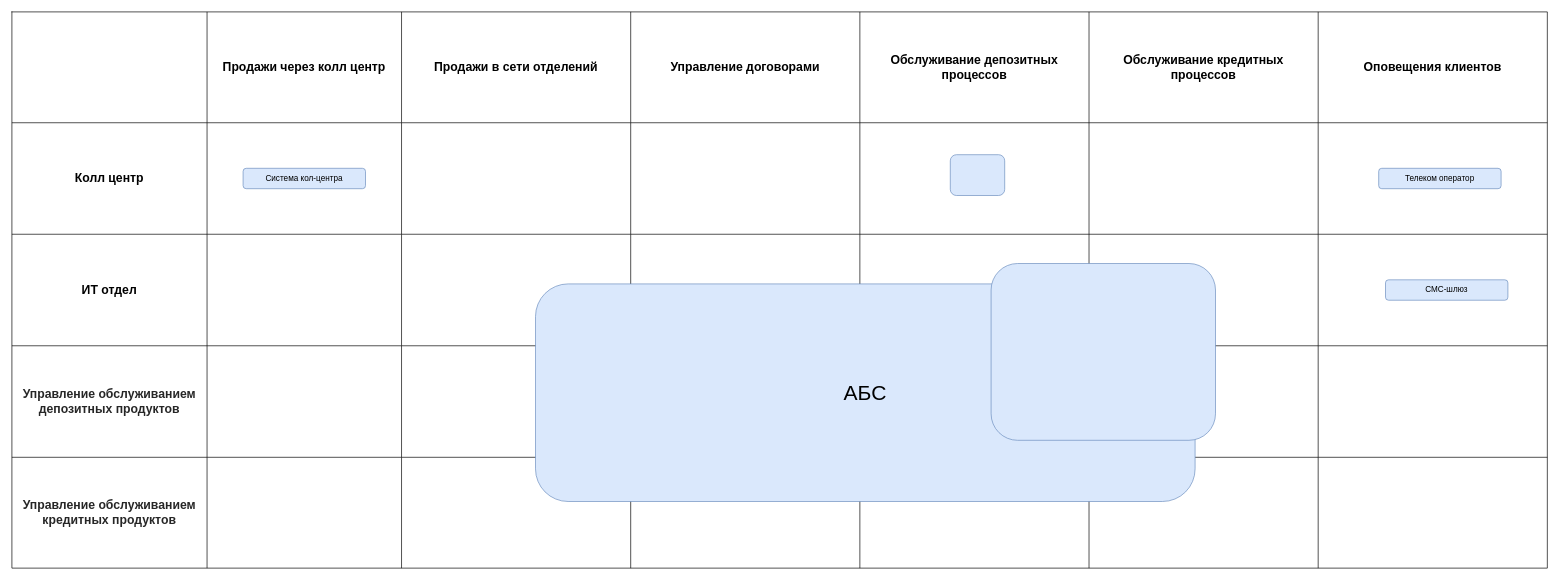
This 1559x580 diagram has some shape labels left out. The box of each missing label's shape, as (x1, y1, x2, y2) in pixels:
Excel файл + электронная почта: (990, 263, 1216, 440)
Интернет-банк: (950, 154, 1005, 196)
